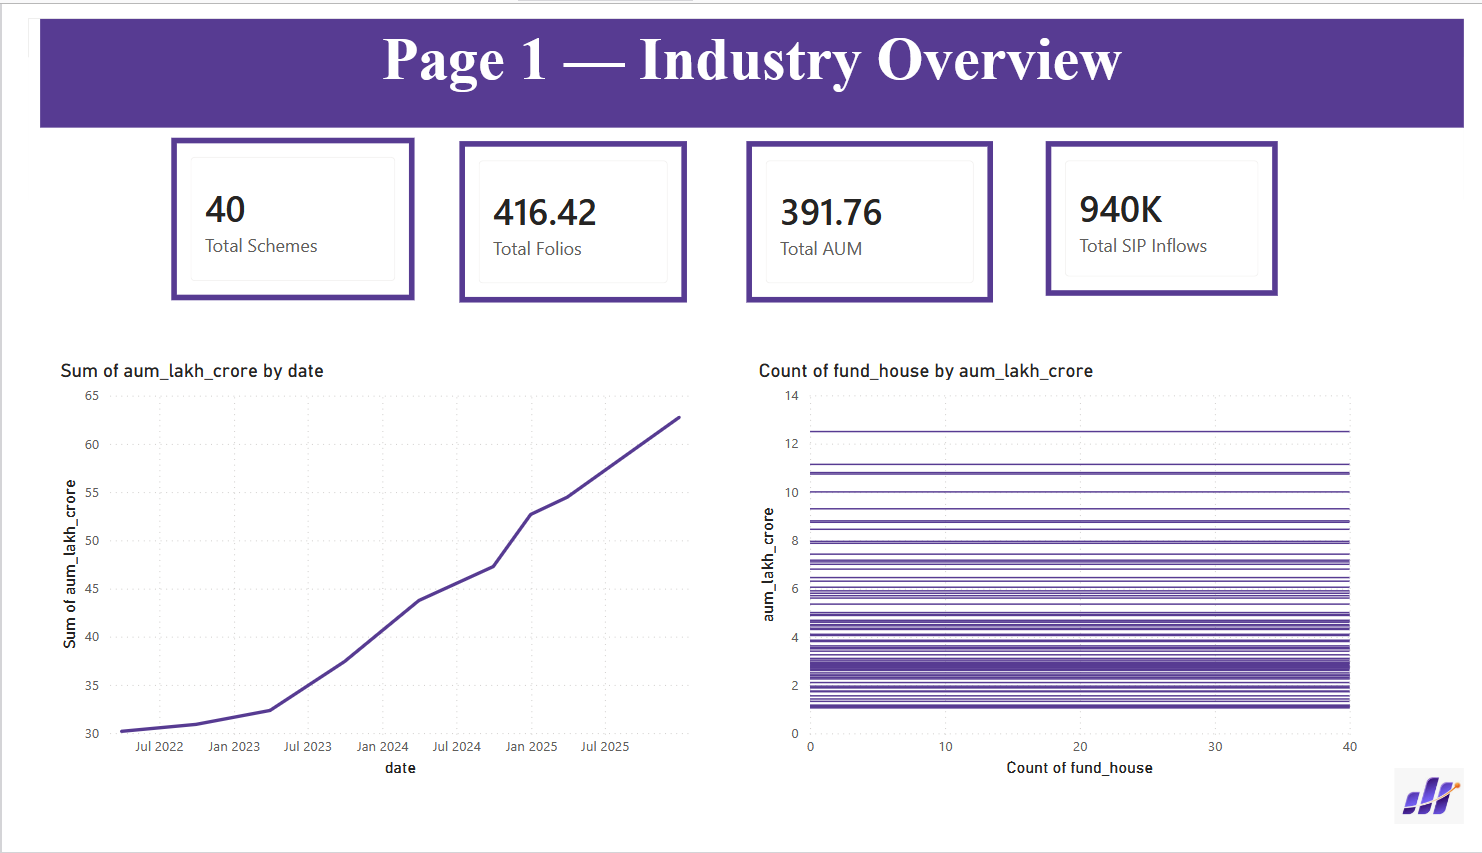

The dashboard page shown, as its layout file describes it:
{"tool":"powerbi","page":{"name":"Page 1","canvas":[1280,720],"ordinal":0},"visuals":[{"type":"textbox","box":[9.8,0,1270.5,96.6],"z":0},{"type":"textbox","box":[61.1,118.6,209.1,128.4],"z":1},{"type":"cardVisual","fields":{"Data":["DateTable.Total AUM"]},"box":[639.5,108.8,220.1,144.3],"z":2},{"type":"cardVisual","fields":{"Data":["DateTable.Total Folios"]},"box":[384,108.8,203,144.3],"z":3},{"type":"cardVisual","fields":{"Data":["DateTable.Total Schemes"]},"box":[127.2,106.4,216.4,144.3],"z":4},{"type":"cardVisual","fields":{"Data":["DateTable.Total SIP Inflows"]},"box":[907.3,108.8,206.7,138.2],"z":5},{"type":"lineChart","fields":{"Y":["Sum(fact_aum.aum_lakh_crore)"],"Category":["fact_aum.date"]},"box":[23.2,303.3,583.3,377.9],"z":6},{"type":"clusteredBarChart","fields":{"Y":["CountNonNull(dim_fund.fund_house)"],"Category":["fact_aum.aum_lakh_crore"]},"box":[645.7,303.3,544.2,377.9],"z":7},{"type":"image","box":[1217.5,666.2,62.5,53.8],"z":8}]}

Visuals, with their boxes in screenshot pixels (x1, y1, x2, y2), scaled from the page's 1280x720 canvas onto the 1482x853 screenshot:
textbox: (11,0,1481,114)
textbox: (71,141,313,293)
cardVisual - DateTable.Total AUM: (740,129,995,300)
cardVisual - DateTable.Total Folios: (445,129,680,300)
cardVisual - DateTable.Total Schemes: (147,126,398,297)
cardVisual - DateTable.Total SIP Inflows: (1050,129,1290,293)
lineChart - Sum(fact_aum.aum_lakh_crore) x fact_aum.date: (27,359,702,807)
clusteredBarChart - CountNonNull(dim_fund.fund_house) x fact_aum.aum_lakh_crore: (748,359,1378,807)
image: (1410,789,1481,852)
